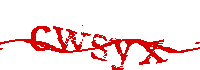c: (29, 24, 53, 55)
s: (90, 31, 109, 62)
w: (53, 23, 89, 56)
x: (138, 39, 167, 66)
y: (110, 37, 134, 70)
